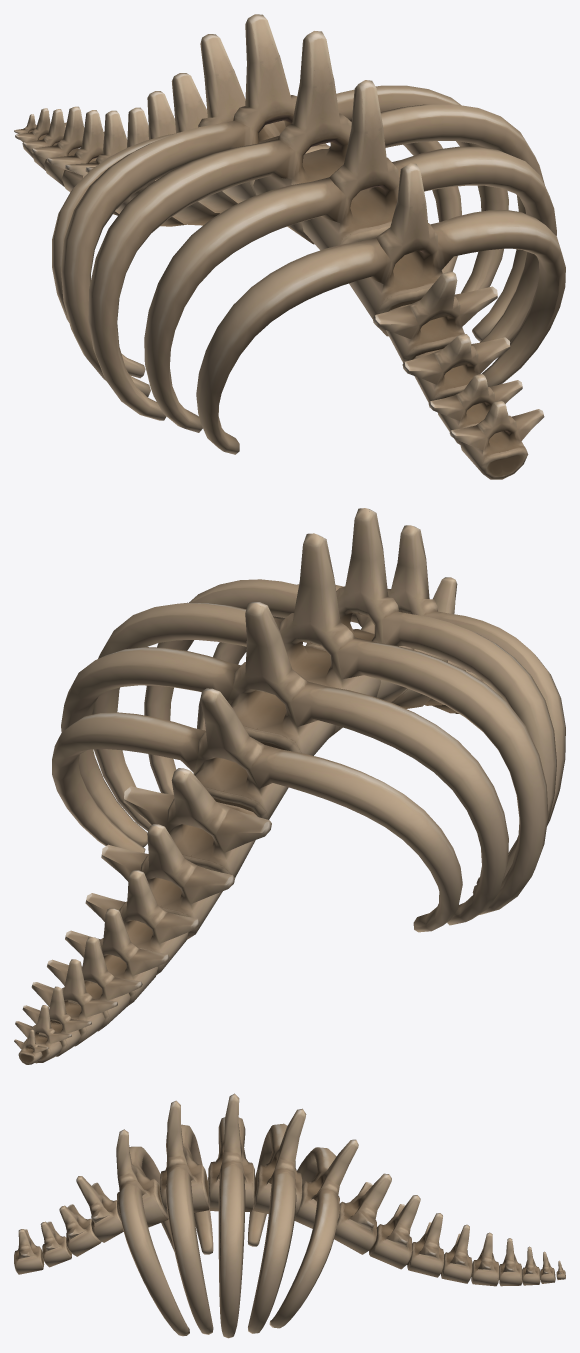
File: DE_Skeleton_03.fbx
3 views of the same model, one above another, from view 1: azimuth 30°, elevation 25°; view 2: azimuth 150°, elevation 25°; view 3: azimuth 270°, elevation 25° (orthographic). The views are drawn at different scales.
Parts seen in each view (by area): view 1: DE_Skeleton_03; view 2: DE_Skeleton_03; view 3: DE_Skeleton_03.
Part boxes in pixels (<box>): DE_Skeleton_03: <box>14,14,565,479</box>; DE_Skeleton_03: <box>14,508,565,1064</box>; DE_Skeleton_03: <box>14,1093,565,1338</box>.
Size of the model in its own units: 2.15 by 1.63 by 3.94.
